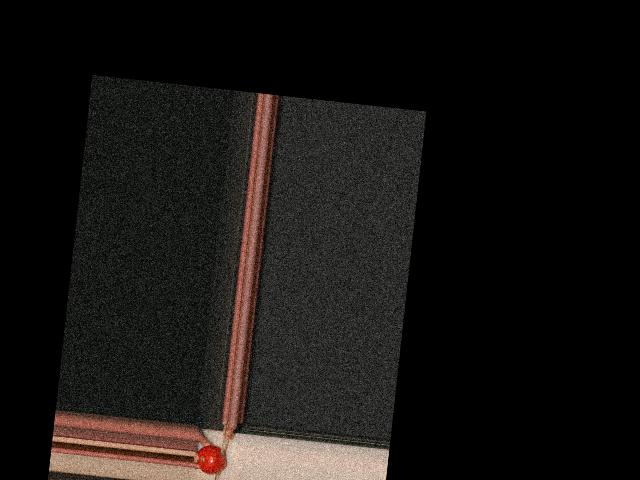tomato: (195, 444, 227, 476)
